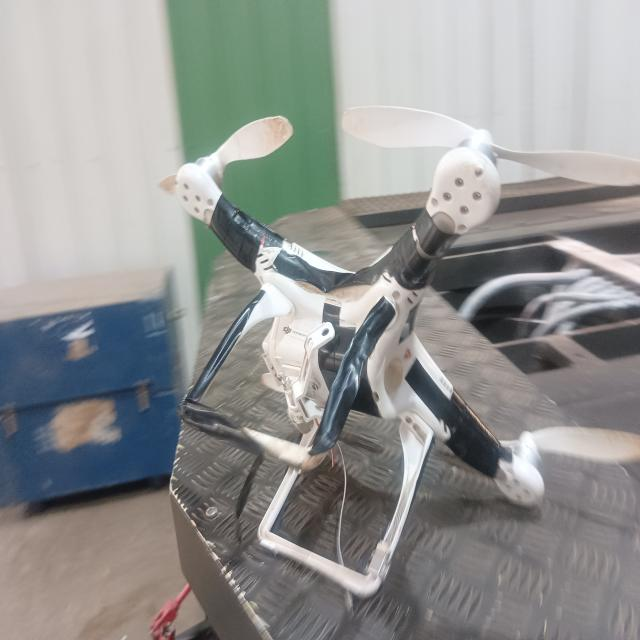drone: (168, 88, 565, 597)
